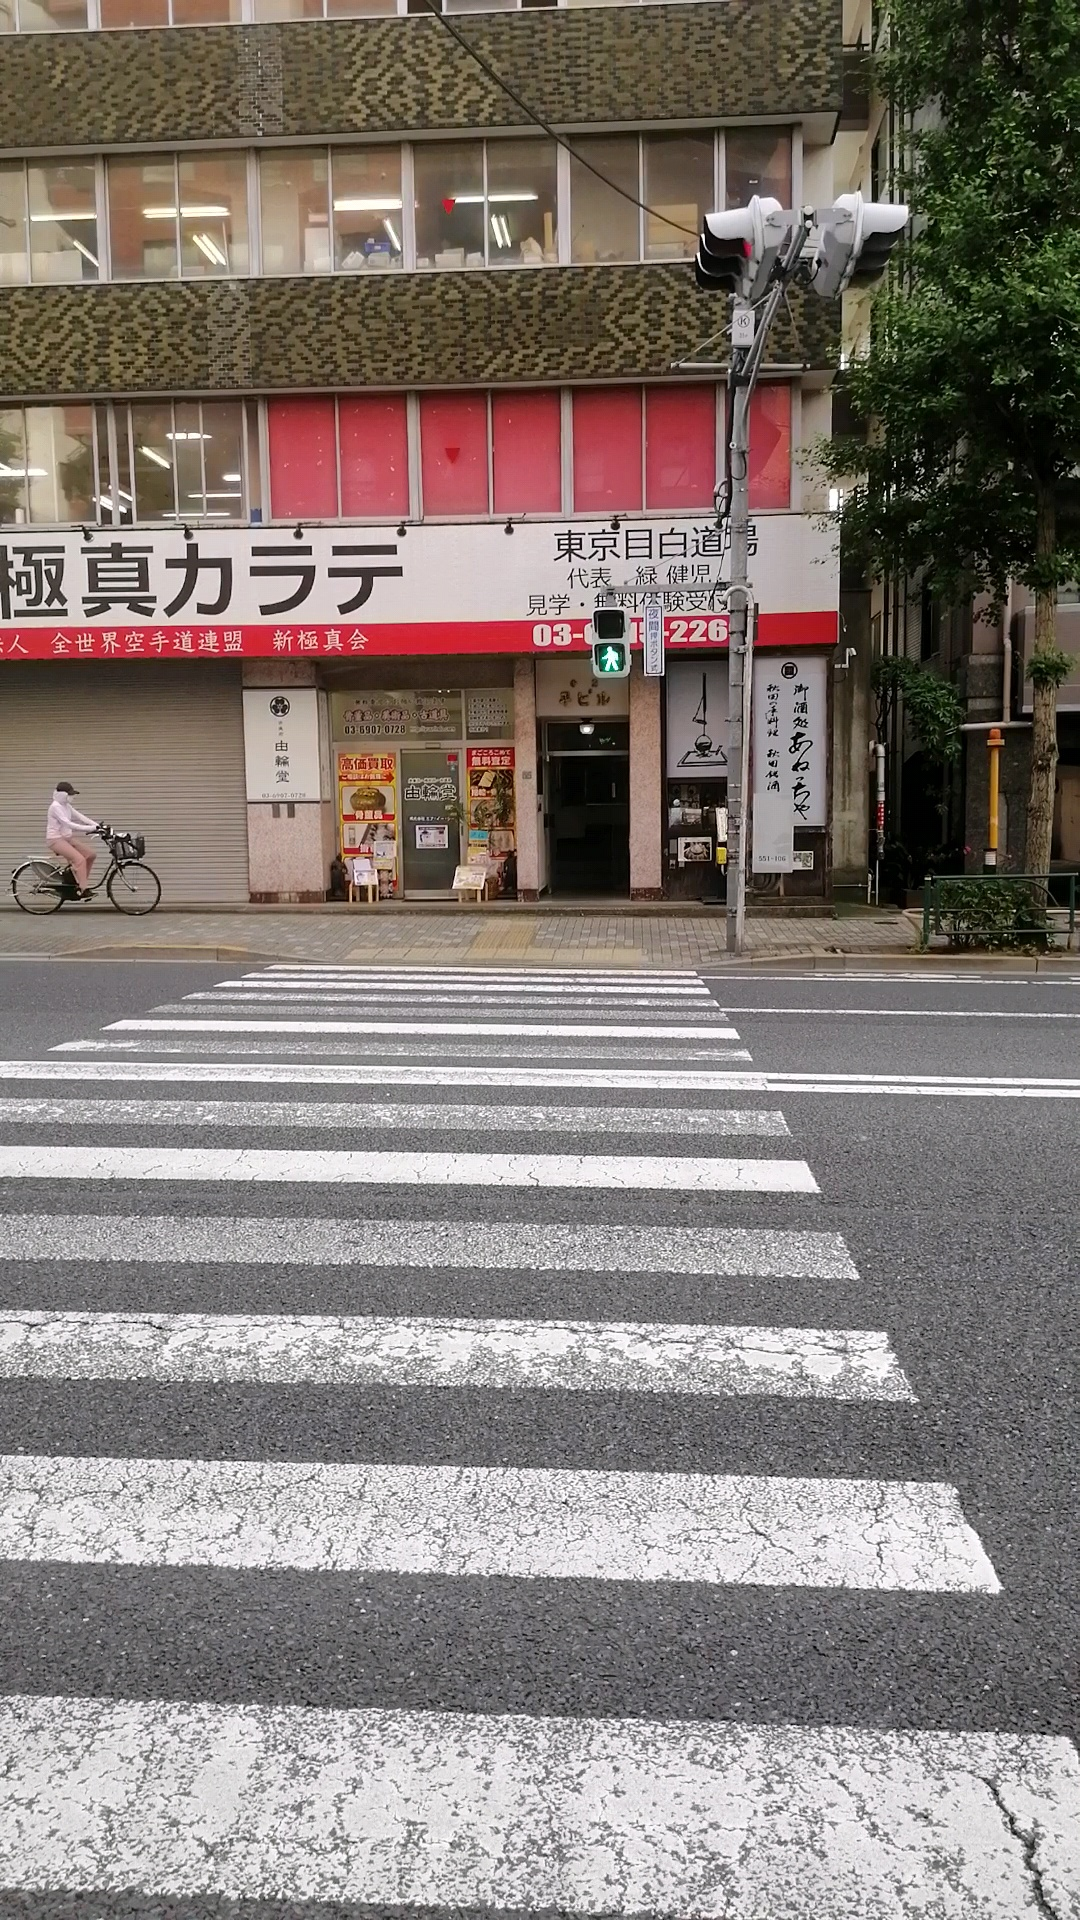green: (589, 607, 632, 678)
